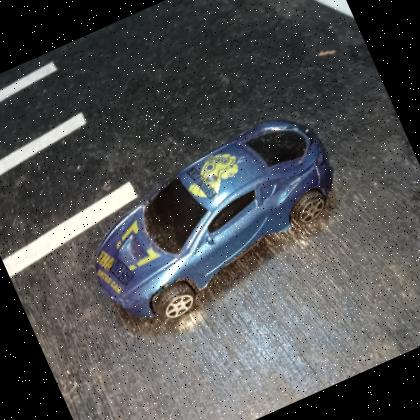Car: (63, 98, 370, 344)
